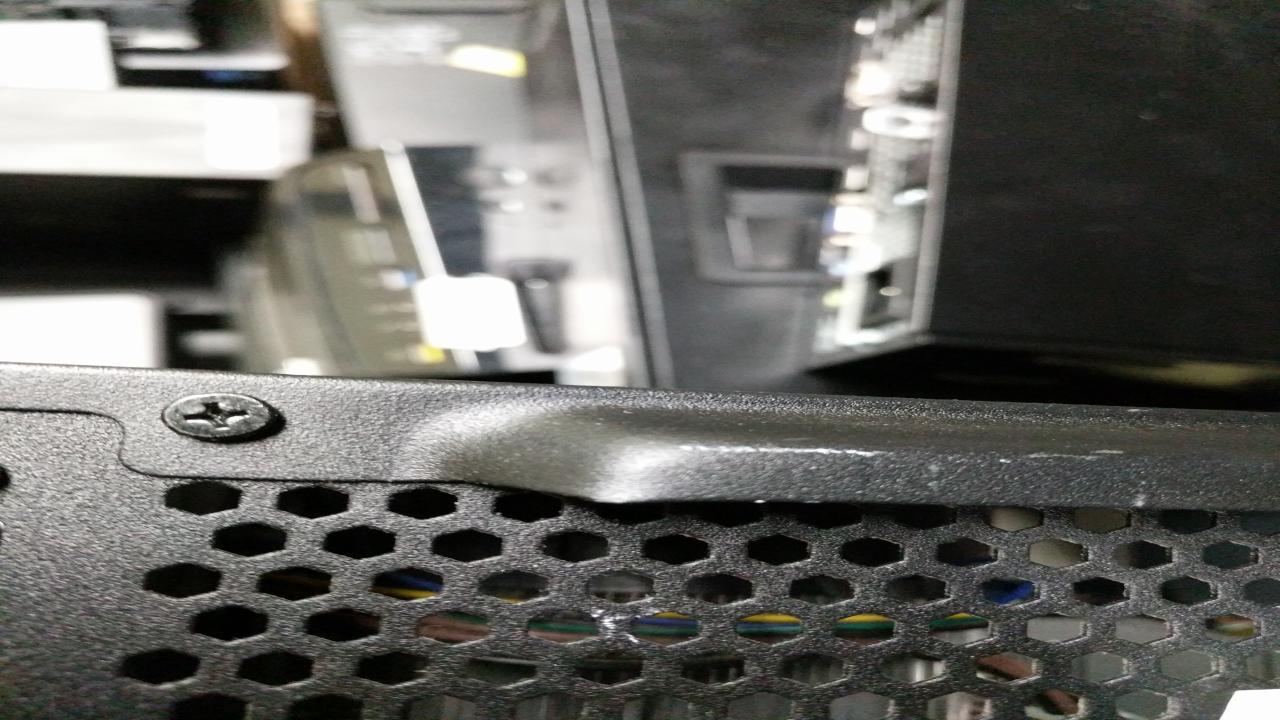CRS: (154, 393, 280, 441)
